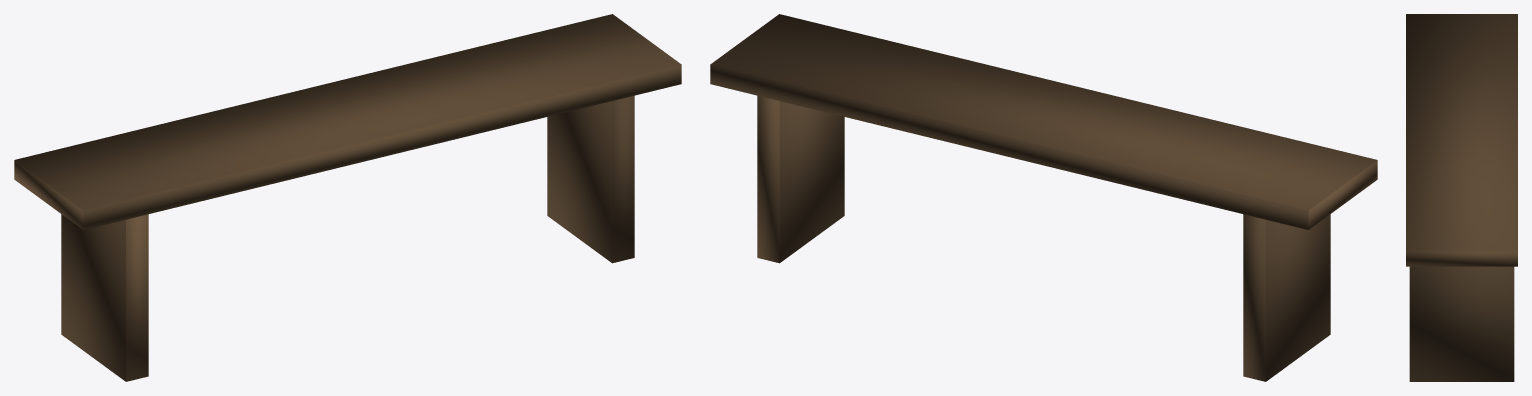
The model's file is panca.glb.
3 renders of one model, left to right at view 1: azimuth 30°, elevation 25°; view 2: azimuth 150°, elevation 25°; view 3: azimuth 270°, elevation 25°, orthographic. The views are drawn at different scales.
Visible parts, largest first — view 1: panca; view 2: panca; view 3: panca.
Boxes of the visible parts, box(x1,y1,x2,y2) form: panca: box(14, 14, 681, 381); panca: box(710, 14, 1377, 381); panca: box(1406, 14, 1517, 381).
Size of the model in its own units: 1.6 by 0.47 by 0.32.
